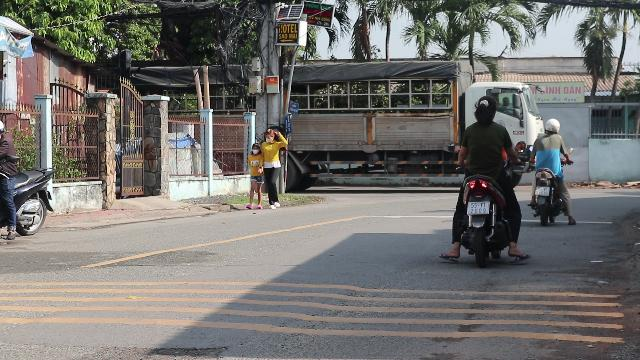licenseplate: (468, 202, 488, 214)
motorcyclist: (445, 94, 525, 266)
nohelmet: (474, 96, 498, 122)
